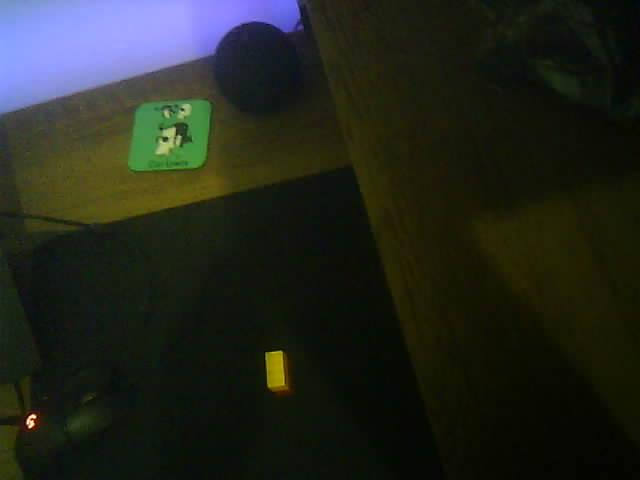lego: (264, 350, 293, 397)
